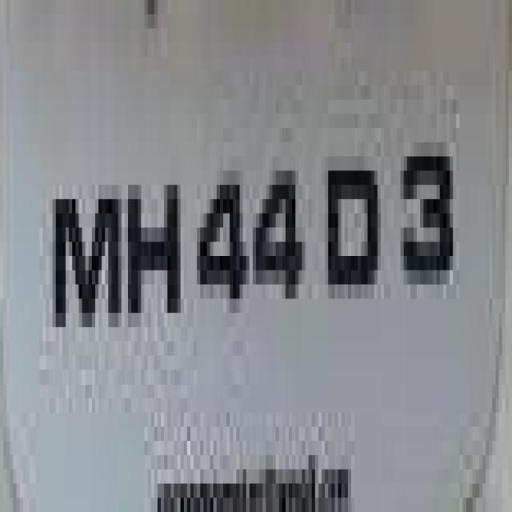number plate: (6, 14, 480, 512)
